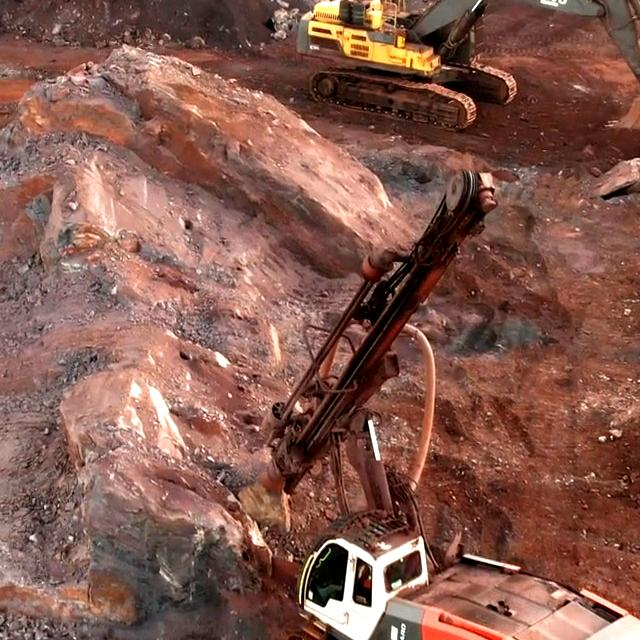Blast rig: (380, 581, 618, 640)
Excavator: (304, 0, 510, 114)
